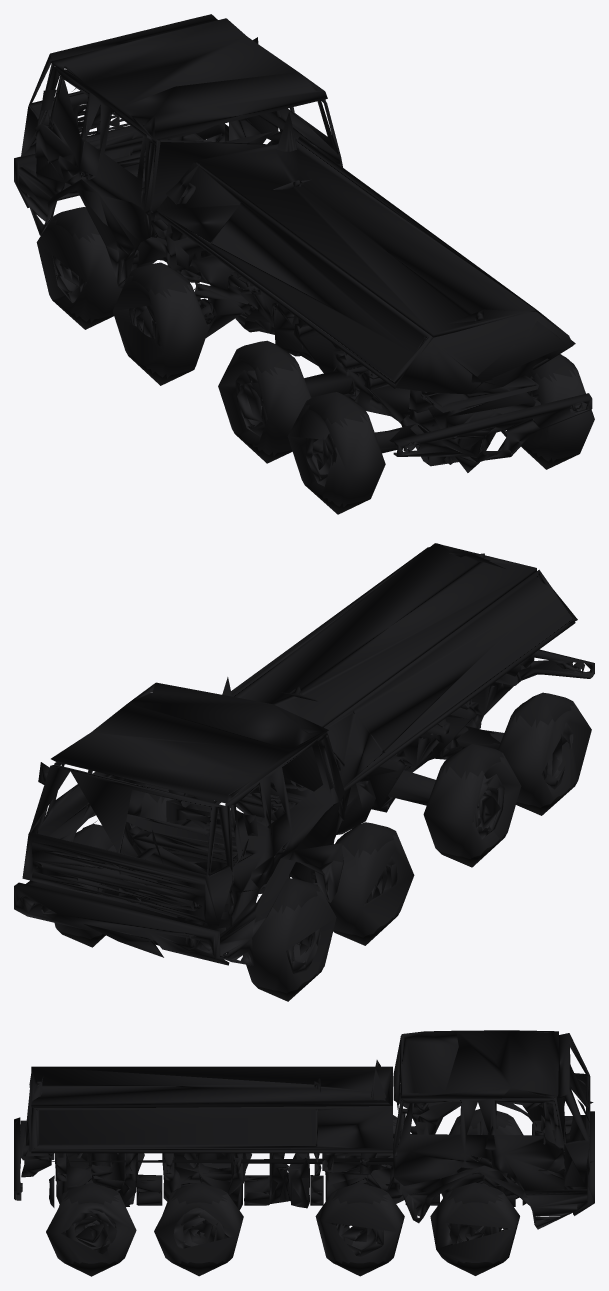
The model's file is truck_army.glb.
The picture shows the model from 3 angles, top to bottom: view 1: azimuth 30°, elevation 25°; view 2: azimuth 150°, elevation 25°; view 3: azimuth 270°, elevation 25°; orthographic projection. The views are drawn at different scales.
Visible parts, largest first — view 1: body; view 2: body; view 3: body.
Part boxes in pixels (x1,y1,x2,y2): body: (14,14,594,514); body: (14,543,594,1001); body: (14,1030,594,1276).
Size of the model in its own units: 3.34 by 3.09 by 8.8.
Materials: 1 (1 with a texture image).
